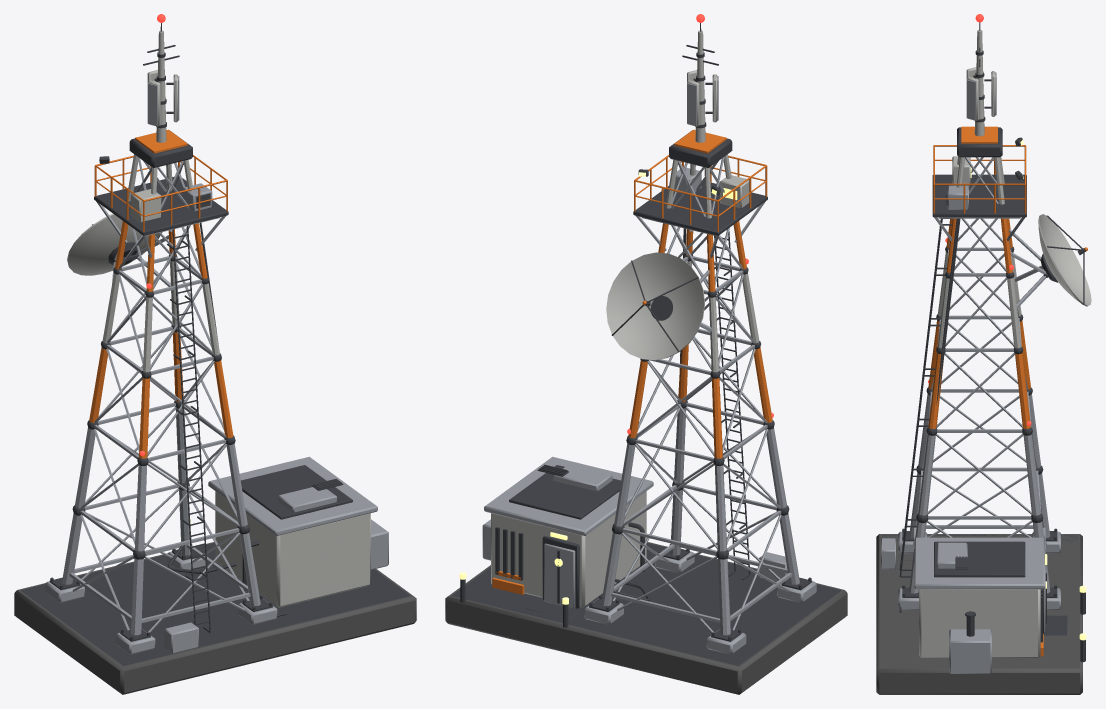
Rendered from outpost_tower_a.glb.
3 renders of one model, left to right at view 1: azimuth 30°, elevation 25°; view 2: azimuth 150°, elevation 25°; view 3: azimuth 270°, elevation 25°, orthographic. The views are drawn at different scales.
Parts seen in each view (by area): view 1: Tower; view 2: Tower; view 3: Tower.
Boxes of the visible parts, bbox=[...] form: Tower: bbox=[14, 23, 416, 694]; Tower: bbox=[445, 23, 847, 694]; Tower: bbox=[876, 22, 1091, 694].
Size of the model in its own units: 11.05 by 21.34 by 7.08.
